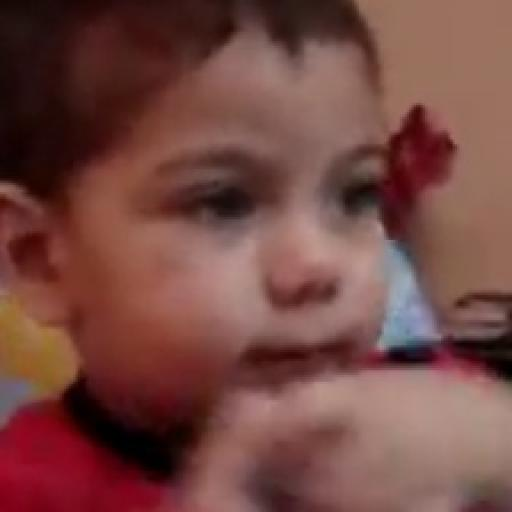Autism: (43, 23, 512, 491)
